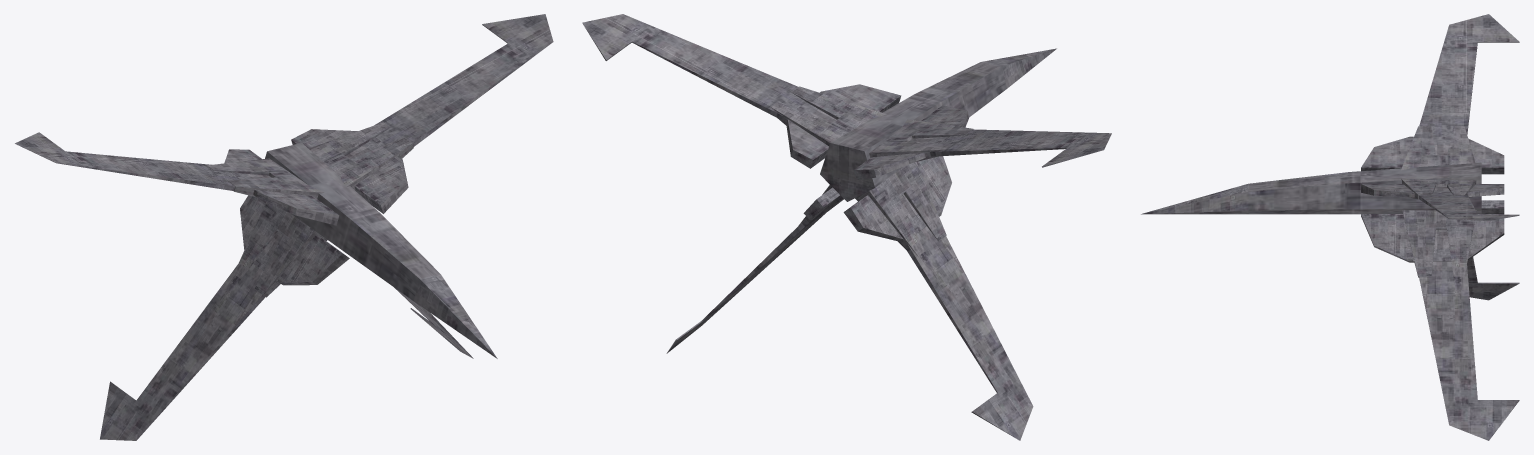
File: sickle.obj
The picture shows the model from 3 angles, left to right: view 1: azimuth 30°, elevation 25°; view 2: azimuth 150°, elevation 25°; view 3: azimuth 270°, elevation 25°; orthographic projection. The views are drawn at different scales.
Bounding box in the file's own units: 22.21 × 12.66 × 17.2.
